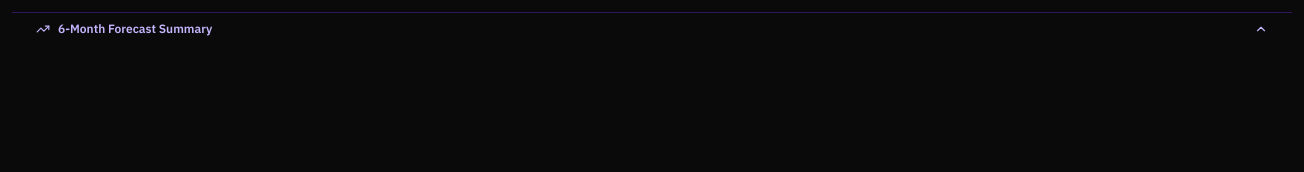
Test: ForecastSummaryPanel › number formatting › formats revenue < 1000 as integer dollars
This screenshot has width=1304, height=172.
Click the button "6-Month Forecast Summary" at (135, 28), box [12,13,1292,45]
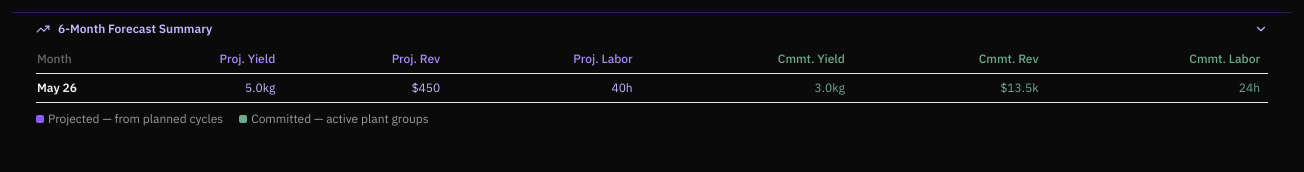
Expected: the table is shown, [36,45,1268,103]
Expected: the text "$450" is shown, [283,74,448,102]
